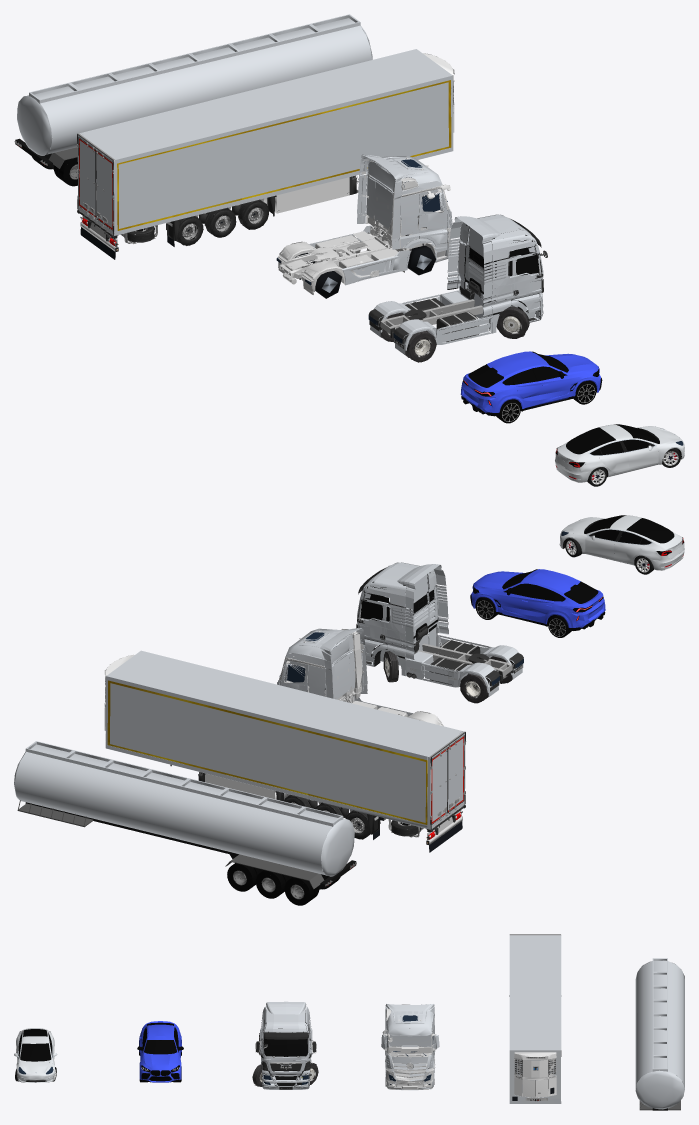
File: vehicles.glb
3 views of the same model, one above another, from view 1: azimuth 30°, elevation 25°; view 2: azimuth 150°, elevation 25°; view 3: azimuth 270°, elevation 25° (orthographic). The views are drawn at different scales.
Parts seen in each view (by area): view 1: trailer_box, trailer_tank, truck_tractor, truck_tractor_b, car_suv, car_sedan; view 2: trailer_box, trailer_tank, truck_tractor, car_suv, truck_tractor_b, car_sedan; view 3: trailer_box, trailer_tank, truck_tractor, truck_tractor_b, car_suv, car_sedan.
Boxes of the visible parts, x1=… form: trailer_box: x1=77, y1=49, x2=454, y2=259; trailer_tank: x1=14, y1=14, x2=372, y2=186; truck_tractor: x1=368, y1=214, x2=547, y2=362; truck_tractor_b: x1=276, y1=154, x2=452, y2=298; car_suv: x1=460, y1=351, x2=602, y2=423; car_sedan: x1=555, y1=424, x2=684, y2=486; trailer_box: x1=104, y1=650, x2=466, y2=852; trailer_tank: x1=14, y1=741, x2=356, y2=905; truck_tractor: x1=356, y1=562, x2=523, y2=703; car_suv: x1=470, y1=569, x2=605, y2=637; truck_tractor_b: x1=277, y1=627, x2=443, y2=726; car_sedan: x1=559, y1=515, x2=684, y2=574; trailer_box: x1=509, y1=934, x2=561, y2=1103; trailer_tank: x1=635, y1=958, x2=684, y2=1110; truck_tractor: x1=252, y1=1001, x2=318, y2=1089; truck_tractor_b: x1=381, y1=1004, x2=439, y2=1090; car_suv: x1=137, y1=1021, x2=183, y2=1082; car_sedan: x1=14, y1=1028, x2=57, y2=1082.
Size of the model in its own units: 13.88 by 4.03 by 32.23.
86 materials, 15 textured.
